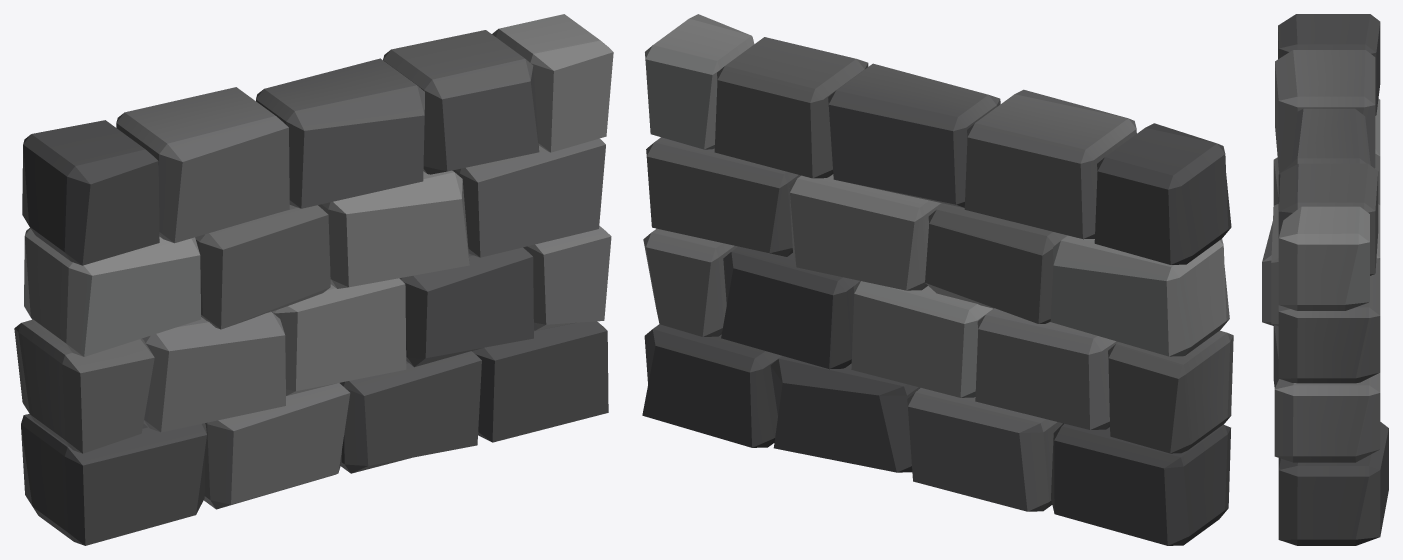
Rendered from Fence_Rock_A.fbx.
The picture shows the model from 3 angles, left to right: view 1: azimuth 30°, elevation 25°; view 2: azimuth 150°, elevation 25°; view 3: azimuth 270°, elevation 25°; orthographic projection. The views are drawn at different scales.
Parts seen in each view (by area): view 1: Fence_Rock_A; view 2: Fence_Rock_A; view 3: Fence_Rock_A.
Part boxes in pixels (x1,y1,x2,y2): Fence_Rock_A: (14, 14, 613, 545); Fence_Rock_A: (642, 14, 1233, 545); Fence_Rock_A: (1262, 14, 1388, 545).
Bounding box in the file's own units: 225 × 148 × 53.42.
